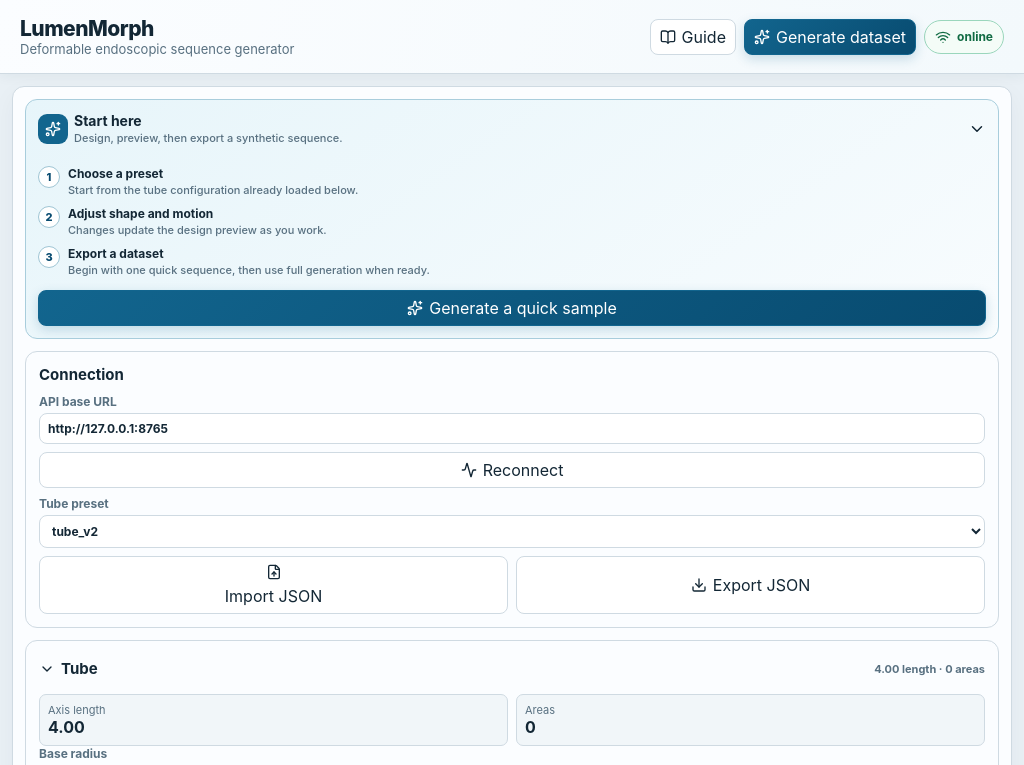
Test: App › opens quick generation from the guided first-run action
Check: the heading "LumenMorph" is shown, box [20,16,154,41]
Click the button "Generate a quick sample": (512, 308) [38,290,986,326]
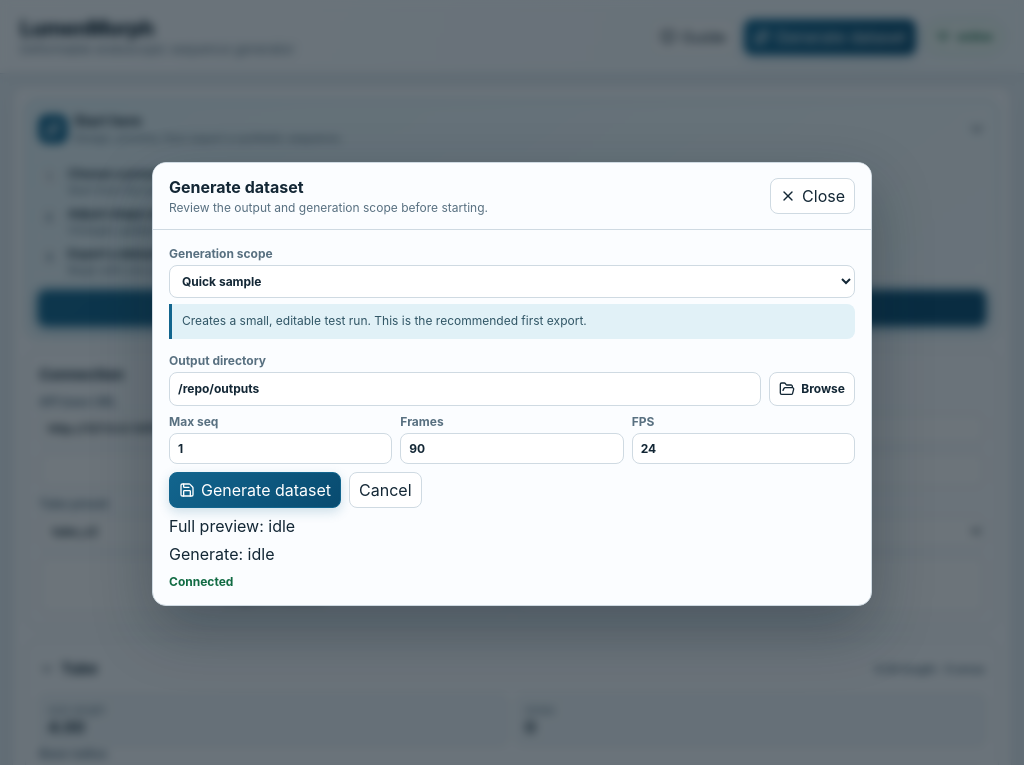
Check: the dialog "Generate dataset" is shown, box [152,162,872,606]
Check: the dropdown labelled "Generation scope" shows "Quick sample", box [169,265,855,298]
Check: the text "Creates a small, editable test run. This is the recommended first export." is shown, box [169,304,855,339]
